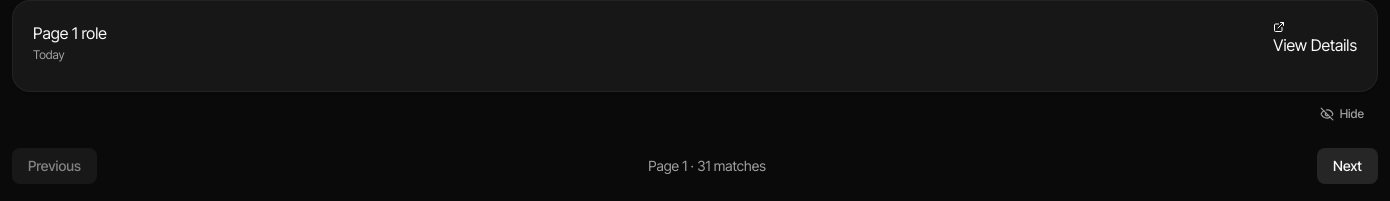
Test: JobsForMe › lets users reach every page and shows the full match count
The width and height of the screenshot is (1390, 201).
Expected: the text "Page 1 · 31 matches" is shown, [648,156,766,176]
Expected: the button "Previous" is disabled, [12,148,97,184]
Click the button "Next": (1348, 166) [1317,148,1378,184]
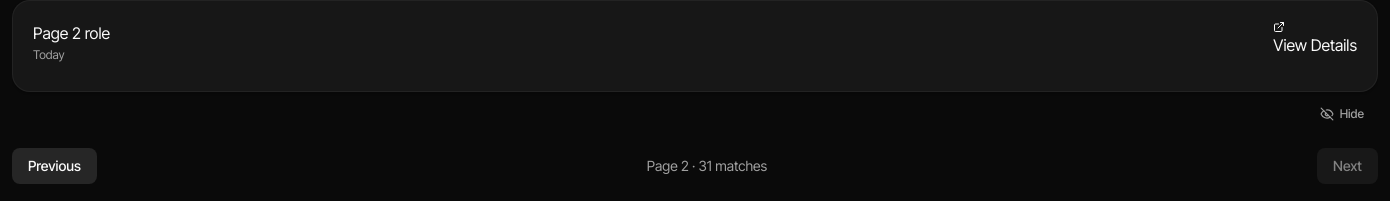
Result: the link "Page 2 role" is shown at [33,21,110,45]
Result: the button "Next" is disabled at [1317,148,1378,184]
Click the button "Previous": (54, 166) [12,148,97,184]
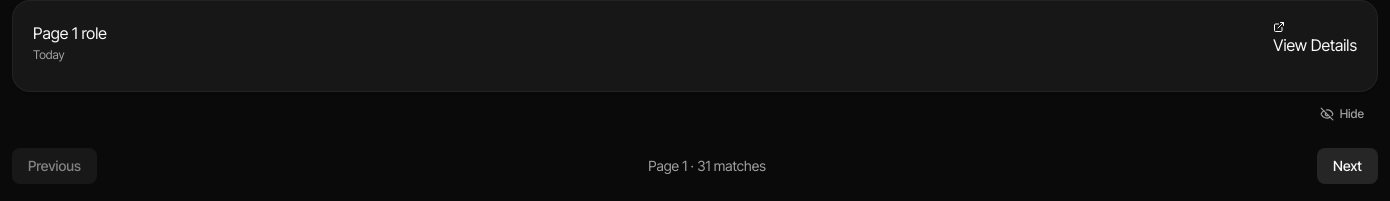
Result: the link "Page 1 role" is shown at [33,21,107,45]
